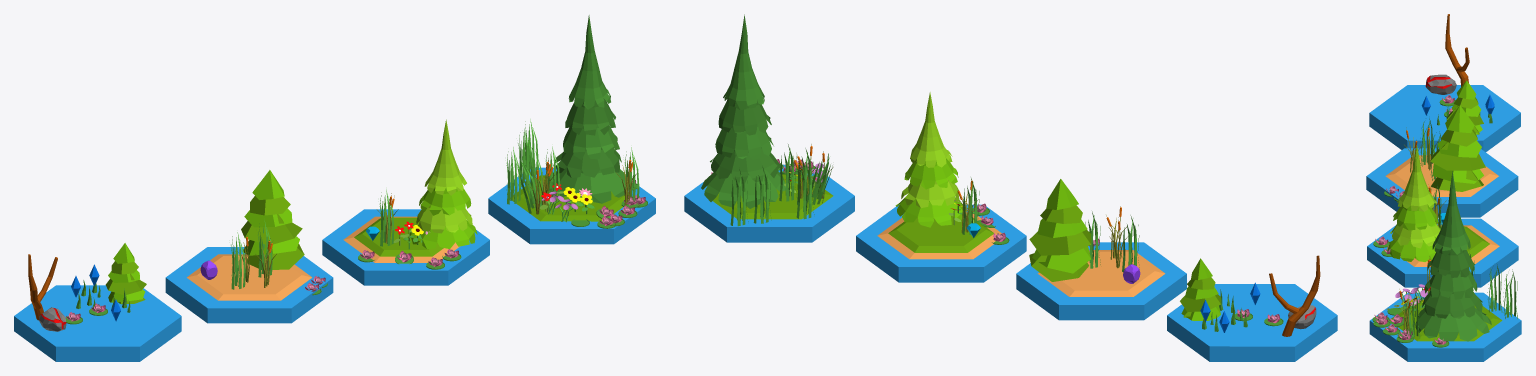
The model's file is landscape.glb.
3 renders of one model, left to right at view 1: azimuth 30°, elevation 25°; view 2: azimuth 150°, elevation 25°; view 3: azimuth 270°, elevation 25°, orthographic. The views are drawn at different scales.
Parts seen in each view (by area): view 1: ziran.821, ziran.824, ziran.822, ziran.855, ziran.823, ziran.837, ziran.840, ziran.842, ziran.896, ziran.828, ziran.860, ziran.848 (+1 smaller); view 2: ziran.822, ziran.821, ziran.824, ziran.855, ziran.823, ziran.837, ziran.840, ziran.842, ziran.896, ziran.861, ziran.857, ziran.858 (+1 smaller); view 3: ziran.855, ziran.824, ziran.821, ziran.823, ziran.822, ziran.837, ziran.840, ziran.842, ziran.896, ziran.848, ziran.859, ziran.858 (+11 smaller).
Boxes of the visible parts, x1,y1,x2,y2 form: ziran.821: (165,247,333,323); ziran.824: (14,285,181,361); ziran.822: (322,209,489,285); ziran.855: (549,15,632,203); ziran.823: (488,167,655,244); ziran.837: (408,119,477,249); ziran.840: (241,170,304,269); ziran.842: (105,243,146,304); ziran.896: (28,254,57,320); ziran.828: (230,232,245,289); ziran.860: (506,147,520,204); ziran.848: (39,307,66,331); ziran.822: (856,204,1026,282); ziran.821: (1016,242,1186,320); ziran.824: (1167,284,1337,361); ziran.855: (701,14,785,208); ziran.823: (684,164,854,242); ziran.837: (895,92,967,227); ziran.840: (1029,179,1091,281); ziran.842: (1180,258,1220,320); ziran.896: (1269,255,1320,336); ziran.861: (807,153,832,204); ziran.857: (779,144,796,201); ziran.858: (730,169,748,226); ziran.855: (1415,171,1491,341); ziran.824: (1369,85,1520,151); ziran.821: (1366,148,1518,217); ziran.823: (1369,292,1521,361); ziran.822: (1367,218,1518,287); ziran.837: (1387,145,1440,261); ziran.840: (1430,105,1485,191); ziran.842: (1446,80,1483,134); ziran.896: (1445,14,1469,86); ziran.848: (1425,74,1456,94); ziran.859: (1487,264,1502,312); ziran.858: (1503,269,1517,318).
Size of the model in its own units: 20.83 by 6.36 by 5.11.
Materials: 2 (2 with a texture image).
